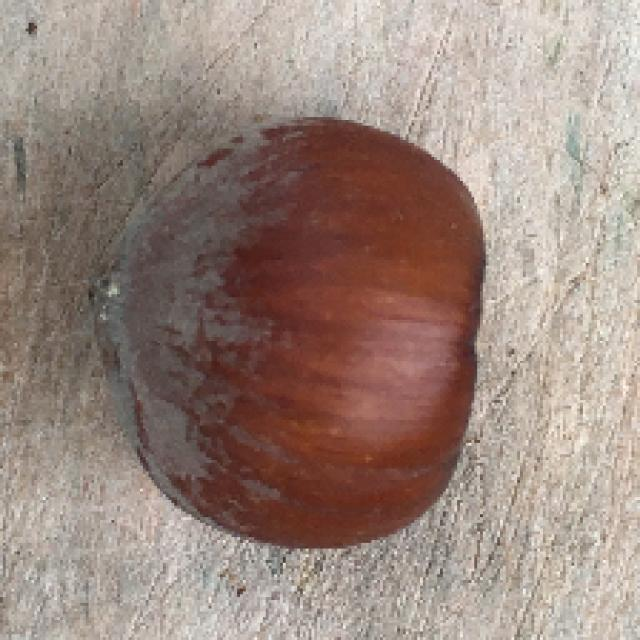QualityHazelnut: (98, 111, 492, 552)
